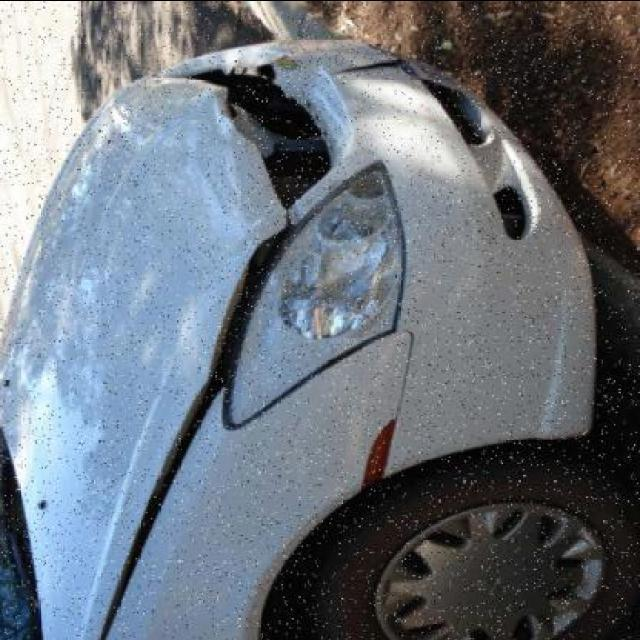front-bumper-dent: (285, 31, 504, 254)
